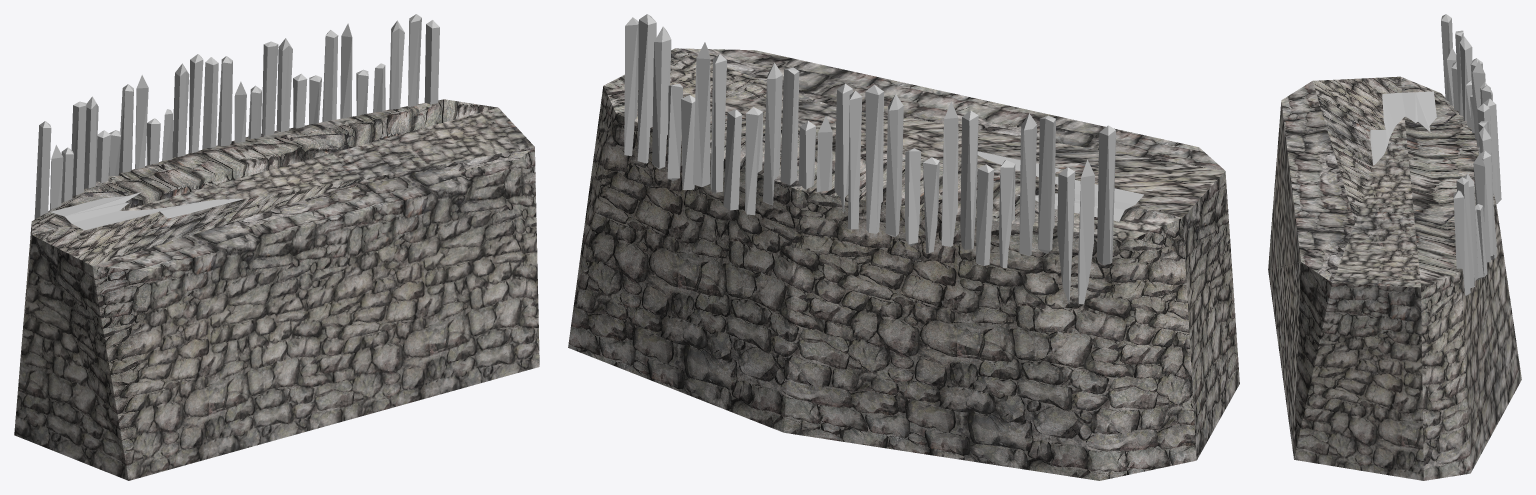
Rendered from StoneWall_2_LOD3.fbx.
The picture shows the model from 3 angles, left to right: view 1: azimuth 30°, elevation 25°; view 2: azimuth 150°, elevation 25°; view 3: azimuth 270°, elevation 25°; orthographic projection. The views are drawn at different scales.
Visible parts, largest first — view 1: Stone, Wood; view 2: Stone, Wood; view 3: Stone, Wood.
Part boxes in pixels (left/top/right/bottom): Stone: left=14, top=99, right=539, bottom=480; Wood: left=34, top=14, right=439, bottom=230; Stone: left=568, top=48, right=1239, bottom=480; Wood: left=624, top=14, right=1143, bottom=304; Stone: left=1268, top=76, right=1521, bottom=480; Wood: left=1370, top=14, right=1501, bottom=295.
Bounding box in the file's own units: 1473 × 691 × 808.
